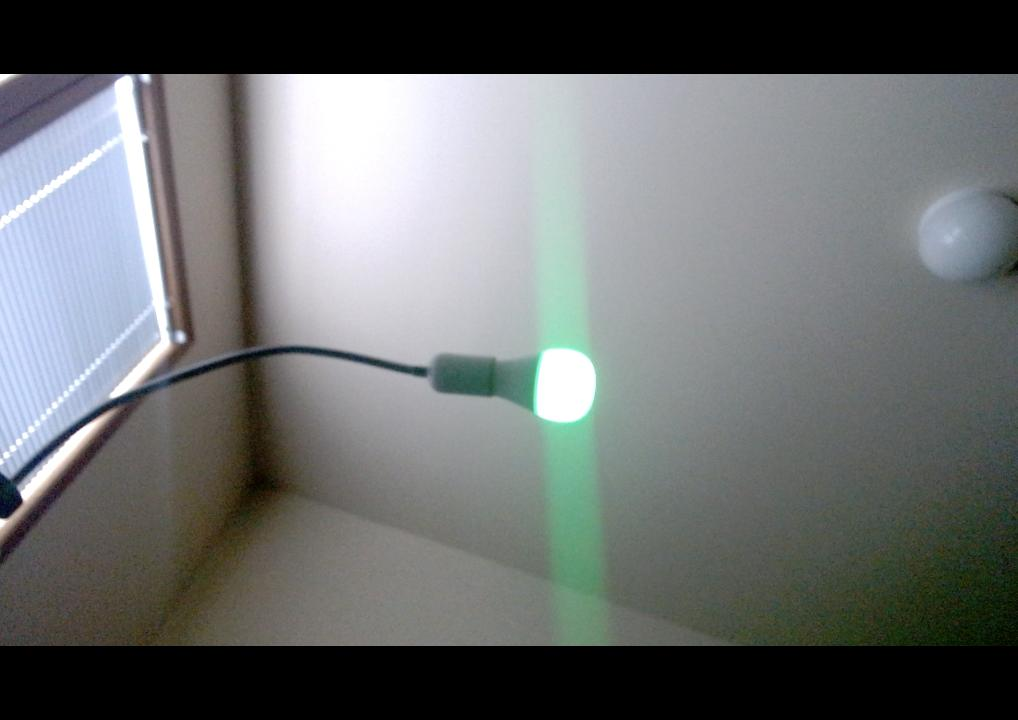TubeLight: (491, 346, 595, 423)
